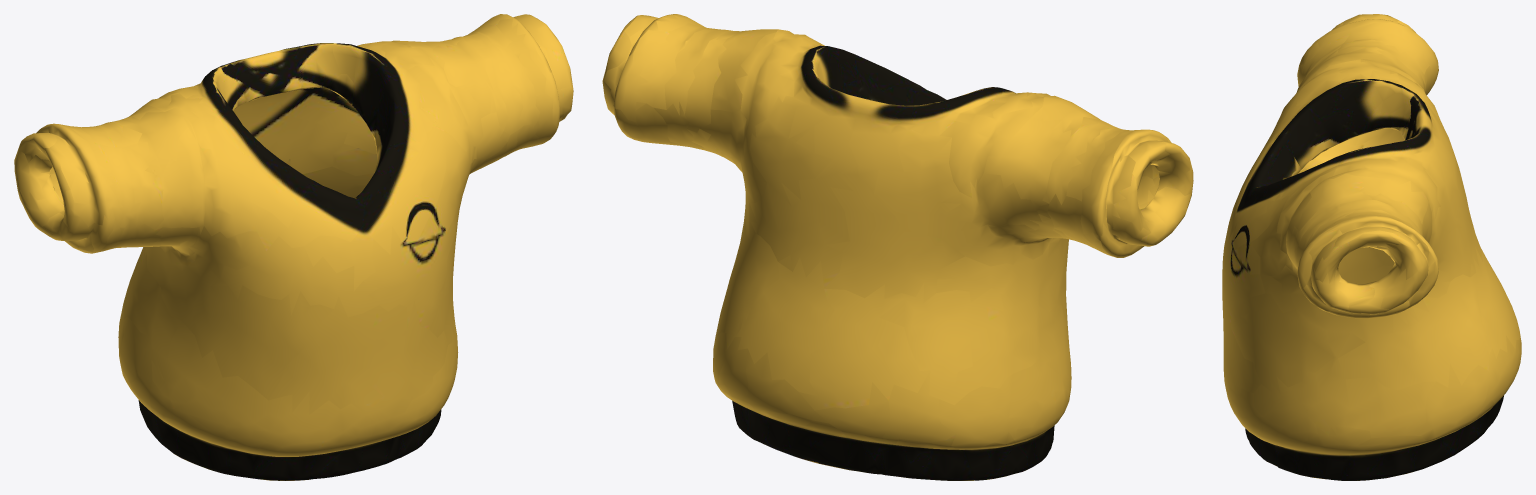
Rendered from Sweater-Yellow.glb.
3 renders of one model, left to right at view 1: azimuth 30°, elevation 25°; view 2: azimuth 150°, elevation 25°; view 3: azimuth 270°, elevation 25°, orthographic. The views are drawn at different scales.
Visible parts, largest first — view 1: Sweater-Yellow; view 2: Sweater-Yellow; view 3: Sweater-Yellow.
Part boxes in pixels (x1=…): Sweater-Yellow: x1=14, y1=14, x2=573, y2=480; Sweater-Yellow: x1=602, y1=14, x2=1193, y2=480; Sweater-Yellow: x1=1222, y1=14, x2=1521, y2=480.
Size of the model in its own units: 0.6339 by 0.4208 by 0.3594.
1 material, 1 textured.
